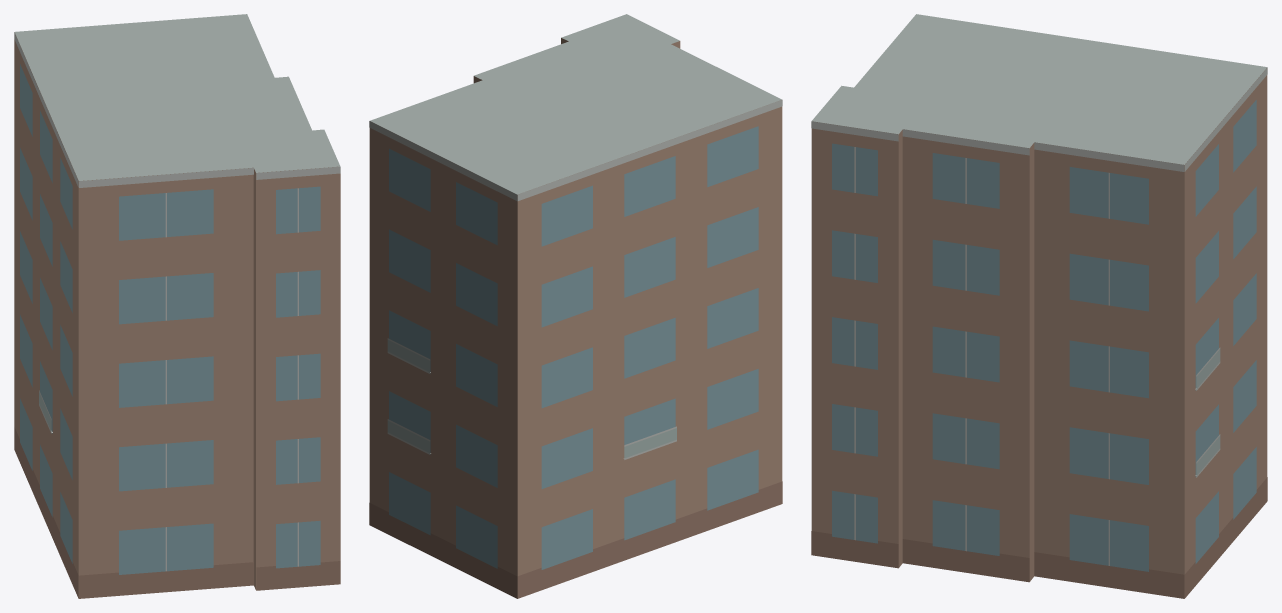
The model's file is survey-upis-32894355.glb.
3 views of the same model, side by side, from view 1: azimuth 30°, elevation 25°; view 2: azimuth 150°, elevation 25°; view 3: azimuth 270°, elevation 25° (orthographic). The views are drawn at different scales.
Visible parts, largest first — view 1: survey-upis-32894355.tmp; view 2: survey-upis-32894355.tmp; view 3: survey-upis-32894355.tmp.
Part boxes in pixels (x1,y1,x2,y2): survey-upis-32894355.tmp: [14, 14, 340, 598]; survey-upis-32894355.tmp: [369, 14, 782, 598]; survey-upis-32894355.tmp: [811, 14, 1267, 598].
Bounding box in the file's own units: 10.82 × 14.5 × 13.82.
